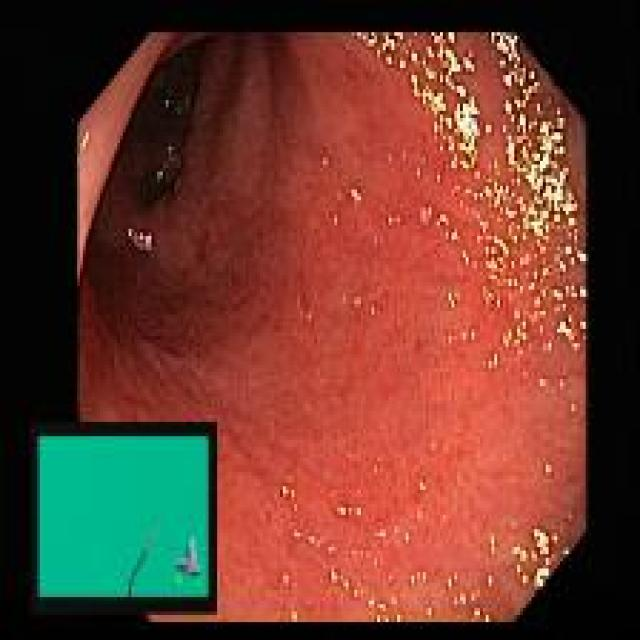ulcerative-colitis: (80, 33, 585, 622)
